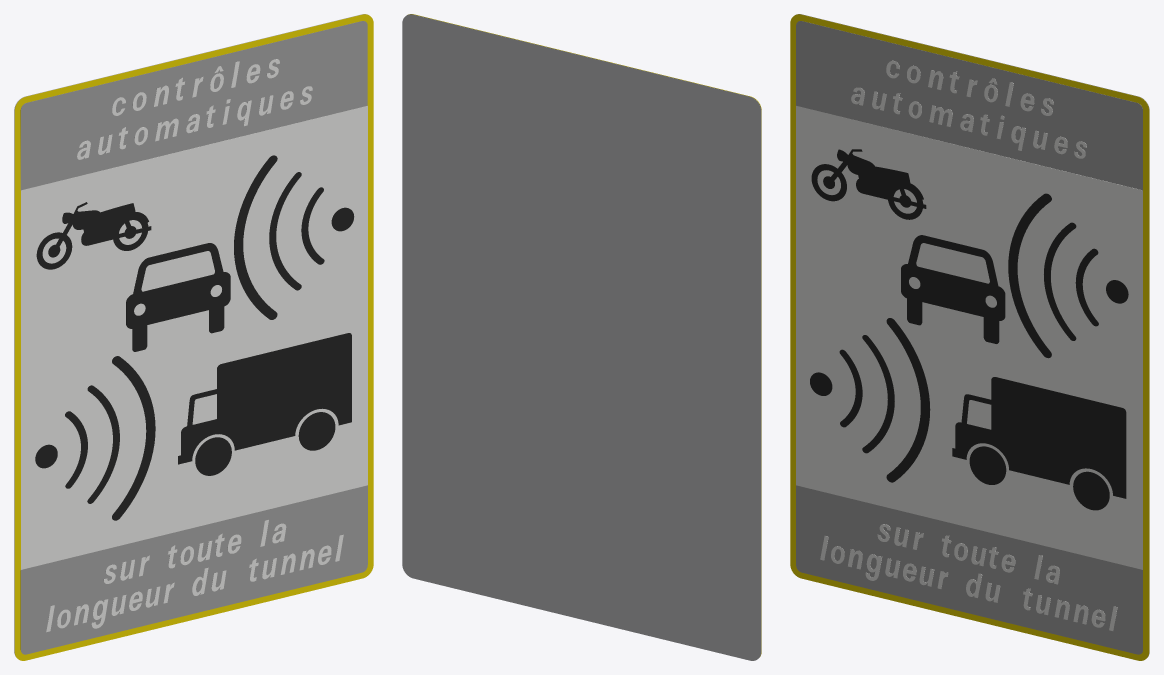
The picture shows the model from 3 angles, left to right: view 1: azimuth 30°, elevation 25°; view 2: azimuth 150°, elevation 25°; view 3: azimuth 330°, elevation 25°; orthographic projection.
Parts seen in each view (by area): view 1: SR3c1_p02, SR3c1_p01, SR3c1_p05, SR3c1_p00, SR3c1_p03, SR3c1_p07, SR3c1_p04, SR3c1_p06, SR3c1_dos; view 2: SR3c1_dos, SR3c1_p00; view 3: SR3c1_p02, SR3c1_p01, SR3c1_p05, SR3c1_p00, SR3c1_p03, SR3c1_p07, SR3c1_p04, SR3c1_p06, SR3c1_dos.
Part boxes in pixels (<box>): SR3c1_p02: <box>21,106,367,569</box>; SR3c1_p01: <box>20,21,367,654</box>; SR3c1_p05: <box>178,155,354,475</box>; SR3c1_p00: <box>14,14,373,660</box>; SR3c1_p03: <box>36,202,230,503</box>; SR3c1_p07: <box>46,520,343,632</box>; SR3c1_p04: <box>35,172,301,520</box>; SR3c1_p06: <box>77,59,312,159</box>; SR3c1_dos: <box>14,14,367,656</box>; SR3c1_dos: <box>402,14,761,660</box>; SR3c1_p00: <box>408,14,761,656</box>; SR3c1_p02: <box>796,106,1142,569</box>; SR3c1_p01: <box>796,21,1142,654</box>; SR3c1_p05: <box>952,193,1128,510</box>; SR3c1_p00: <box>790,14,1149,660</box>; SR3c1_p03: <box>811,149,1005,453</box>; SR3c1_p07: <box>820,524,1117,630</box>; SR3c1_p04: <box>810,222,1076,482</box>; SR3c1_p06: <box>851,60,1086,158</box>; SR3c1_dos: <box>796,14,1149,656</box>.
Bounding box in the file's own units: 0.7 × 1.05 × 0.0047.
